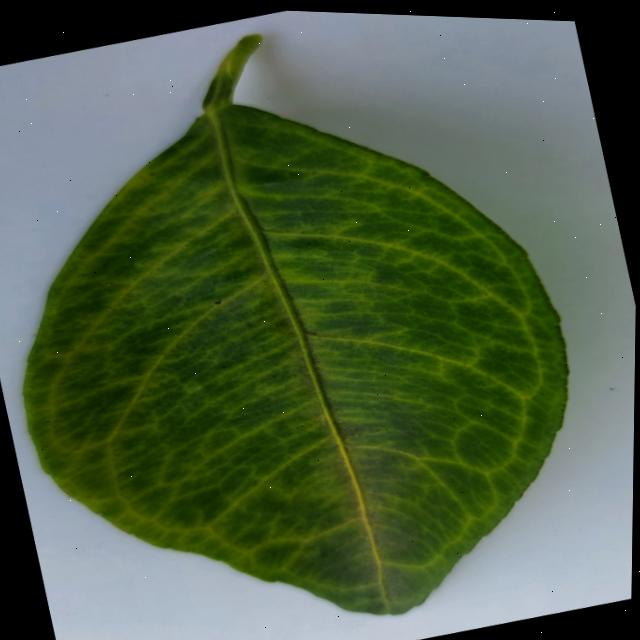greening: (24, 35, 566, 614)
